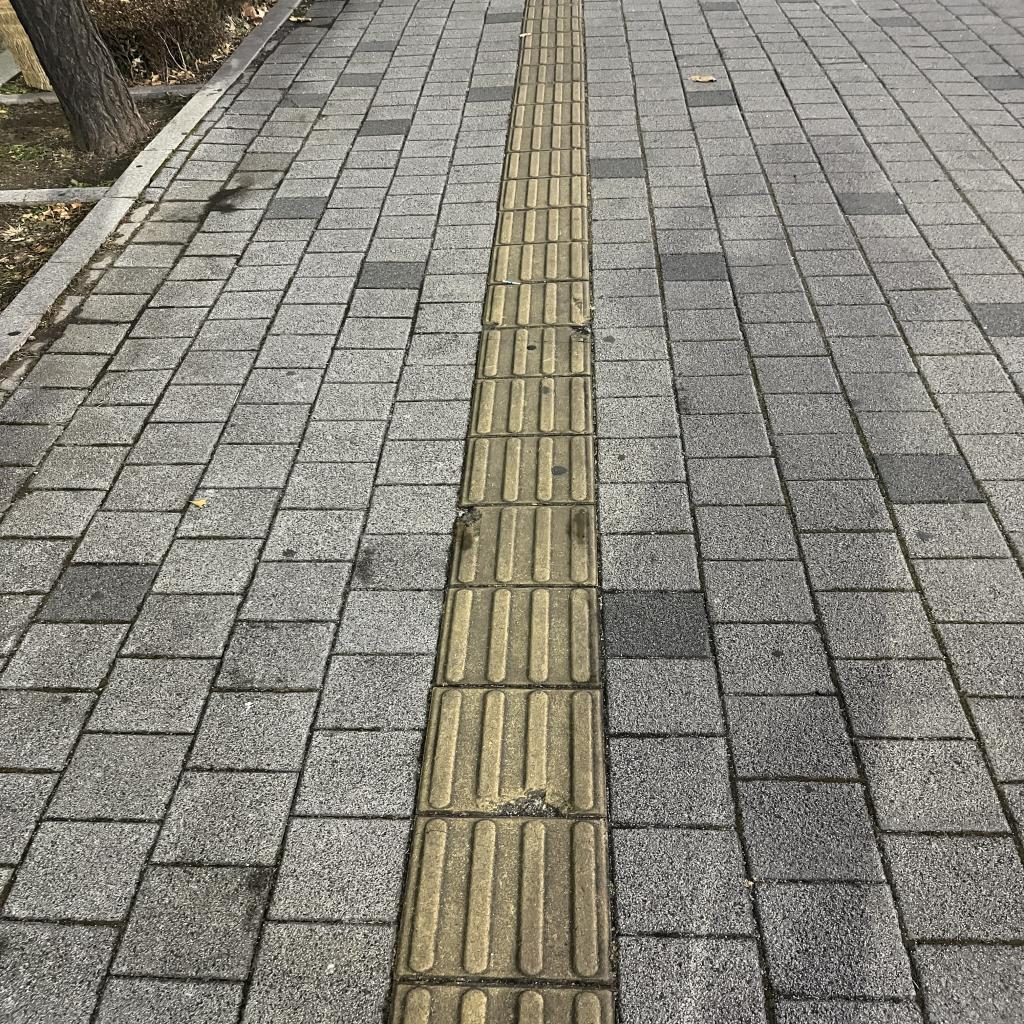Straight block broken: (418, 688, 607, 815), (451, 506, 595, 584), (476, 327, 590, 377), (481, 281, 590, 329)
Straight block normal: (398, 818, 614, 980), (436, 588, 602, 685), (459, 435, 594, 505), (468, 376, 593, 436), (487, 241, 589, 283), (494, 208, 589, 244), (498, 176, 588, 210), (505, 122, 586, 153), (503, 149, 586, 179)
